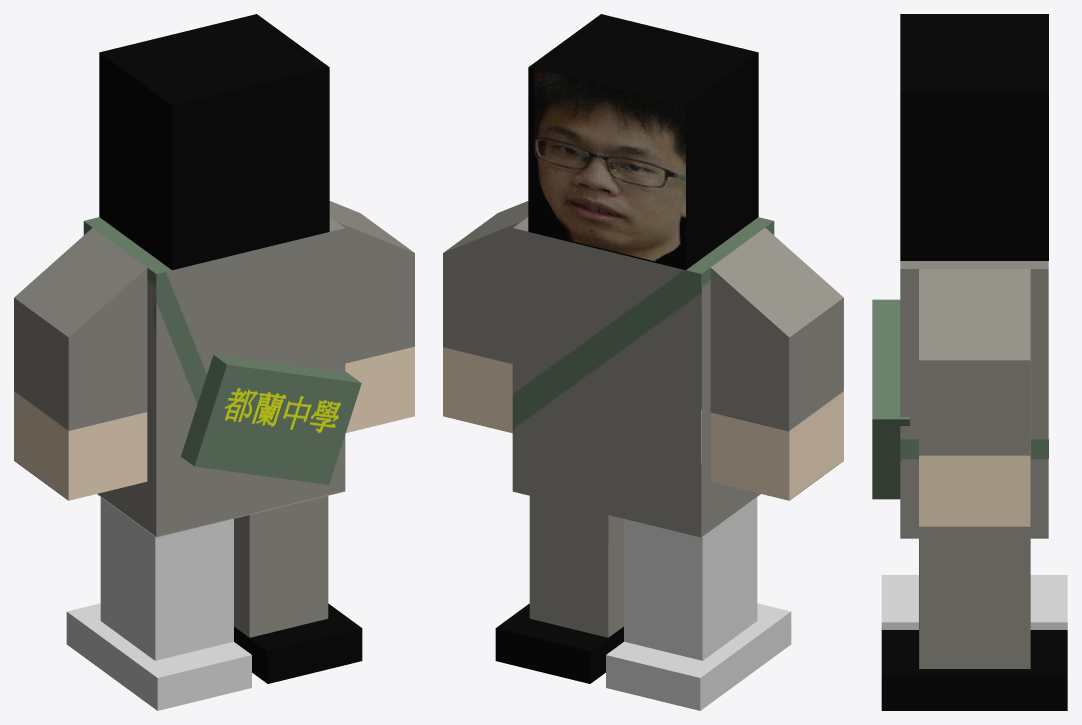
Rendered from student.fbx.
3 renders of one model, left to right at view 1: azimuth 30°, elevation 25°; view 2: azimuth 150°, elevation 25°; view 3: azimuth 270°, elevation 25°, orthographic. The views are drawn at different scales.
Visible parts, largest first — view 1: object_7, object_4.002, object_6.002, object_2.002, object_3.002, object_1.002, object_5.002; view 2: object_4.002, object_7, object_6.002, object_2.002, object_3.002, object_5.002; view 3: object_7, object_5.002, object_3.002, object_4.002, object_1.002, object_2.002.
Boxes of the visible parts, x1=… form: object_7: x1=99, y1=14, x2=329, y2=270; object_4.002: x1=83, y1=217, x2=345, y2=537; object_6.002: x1=14, y1=228, x2=147, y2=500; object_2.002: x1=66, y1=497, x2=251, y2=710; object_3.002: x1=234, y1=496, x2=362, y2=683; object_1.002: x1=181, y1=354, x2=361, y2=484; object_5.002: x1=329, y1=201, x2=414, y2=432; object_4.002: x1=512, y1=217, x2=774, y2=537; object_7: x1=528, y1=14, x2=758, y2=270; object_6.002: x1=710, y1=228, x2=843, y2=500; object_2.002: x1=606, y1=410, x2=791, y2=710; object_3.002: x1=495, y1=496, x2=623, y2=683; object_5.002: x1=443, y1=201, x2=528, y2=433; object_7: x1=900, y1=14, x2=1048, y2=260; object_5.002: x1=919, y1=269, x2=1030, y2=527; object_3.002: x1=881, y1=538, x2=1067, y2=710; object_4.002: x1=900, y1=261, x2=1048, y2=538; object_1.002: x1=872, y1=299, x2=909, y2=499; object_2.002: x1=881, y1=575, x2=1067, y2=629.
Bounding box in the file's own units: 149 × 243 × 71.01.
